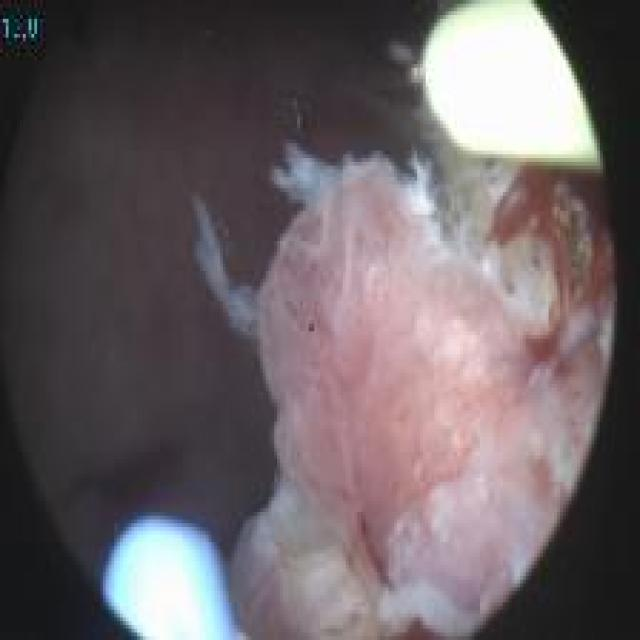color misalignment: (0, 11, 42, 46), (307, 322, 318, 335)
contrast: (10, 11, 361, 593)
instrument: (422, 5, 604, 166), (102, 518, 242, 634)
saturation: (426, 5, 601, 162), (106, 525, 223, 636)
specularity: (425, 8, 591, 160)
